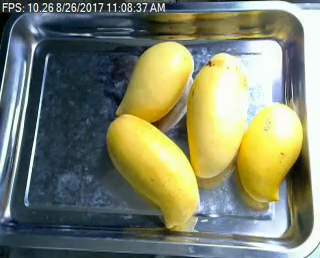Mango: (103, 112, 205, 235), (183, 50, 250, 179), (235, 99, 307, 204), (113, 38, 196, 122)
